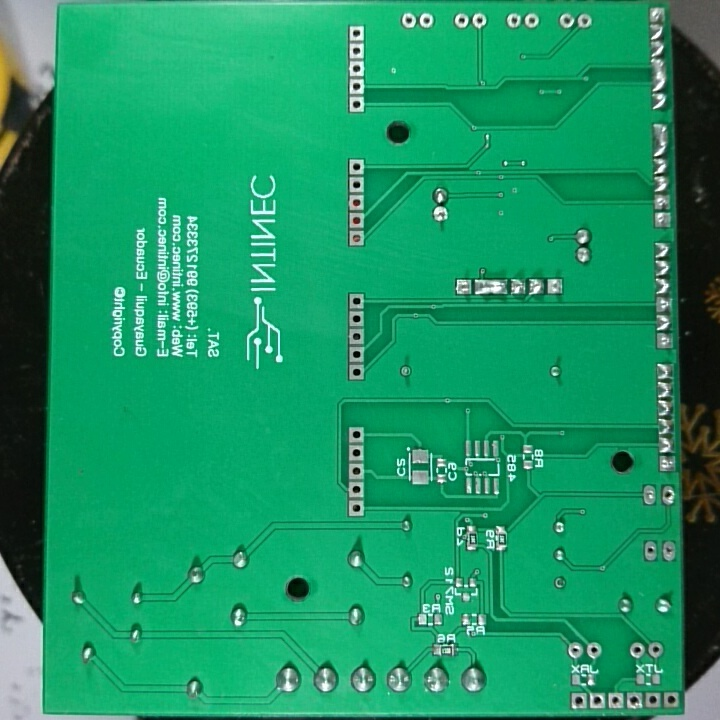F: (642, 537, 660, 569), (650, 209, 674, 232), (431, 202, 451, 229), (453, 275, 473, 302), (659, 483, 678, 510), (545, 274, 564, 300), (655, 330, 677, 352), (647, 638, 667, 662), (650, 295, 674, 315), (661, 537, 677, 565), (569, 691, 590, 712), (347, 478, 367, 500), (584, 641, 604, 663), (469, 9, 488, 32), (346, 75, 367, 95), (345, 307, 365, 328), (347, 424, 369, 443), (662, 690, 681, 712), (606, 690, 625, 712), (347, 92, 365, 115), (521, 11, 541, 31), (346, 155, 366, 175), (346, 443, 366, 463), (346, 498, 366, 518), (647, 5, 667, 25), (657, 455, 678, 474), (624, 689, 643, 710), (587, 691, 606, 712), (652, 193, 674, 211), (557, 11, 576, 31), (347, 175, 366, 195), (347, 228, 367, 247), (347, 326, 366, 346), (347, 361, 366, 381), (347, 460, 366, 480), (551, 575, 571, 594), (348, 40, 366, 61), (644, 688, 662, 709), (347, 22, 367, 40), (348, 58, 366, 78), (418, 11, 434, 33), (577, 11, 593, 33), (643, 482, 657, 507), (399, 12, 418, 30), (504, 11, 522, 30), (347, 210, 365, 229), (346, 292, 365, 310), (347, 344, 366, 362), (627, 641, 647, 658), (398, 363, 414, 384), (451, 12, 470, 29), (567, 641, 584, 660), (347, 193, 364, 211)
P: (650, 54, 670, 95), (471, 275, 505, 299), (652, 122, 670, 158)
